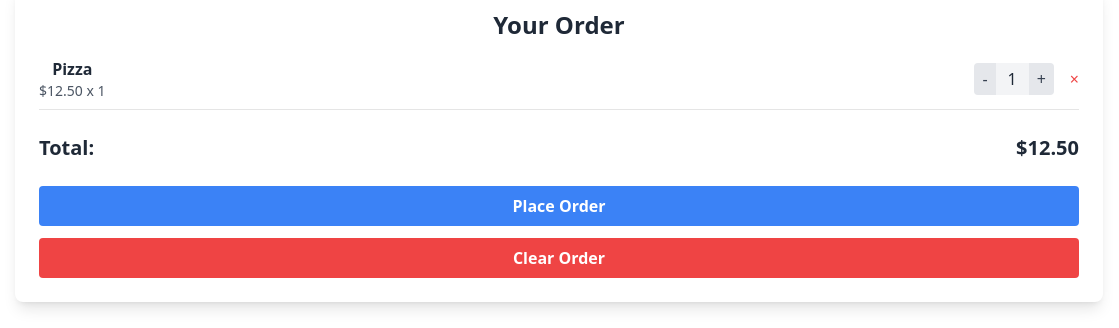
Test case: OrderCart › increments and decrements item quantity via the +/- buttons
Expected: the text "Pizza" is shown, [52,58,92,80]
What coordinates should you click on to do the following:
click the button "+"
I would click on:
 (1041, 79)
Its box is [1029,63,1054,95].
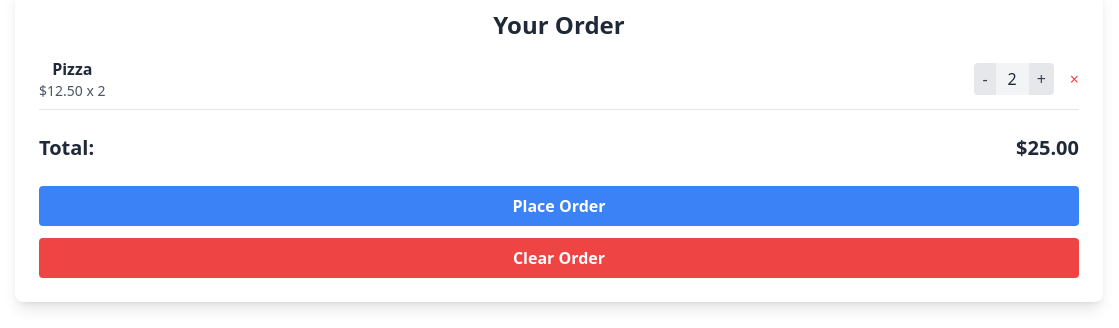
Now the text "$25.00" is shown, box [1016,134,1079,162]
What coordinates should you click on to do the following:
click the button "-"
I would click on:
 (985, 79)
Its box is [974,63,996,95].
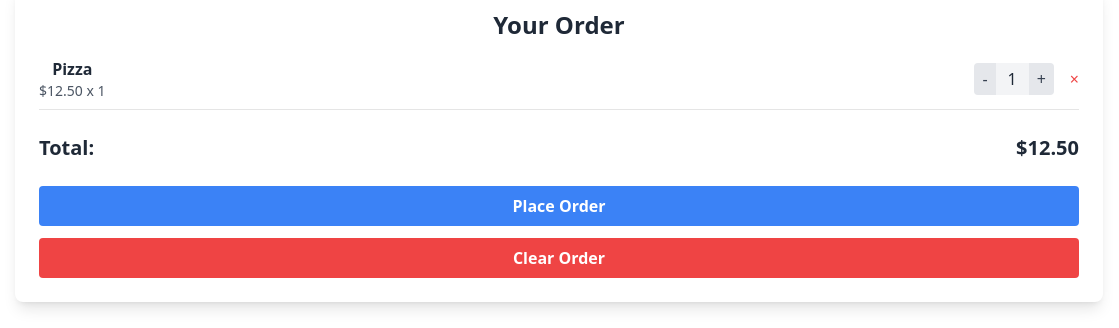
Now the text "$12.50" is shown, box [1016,134,1079,162]
